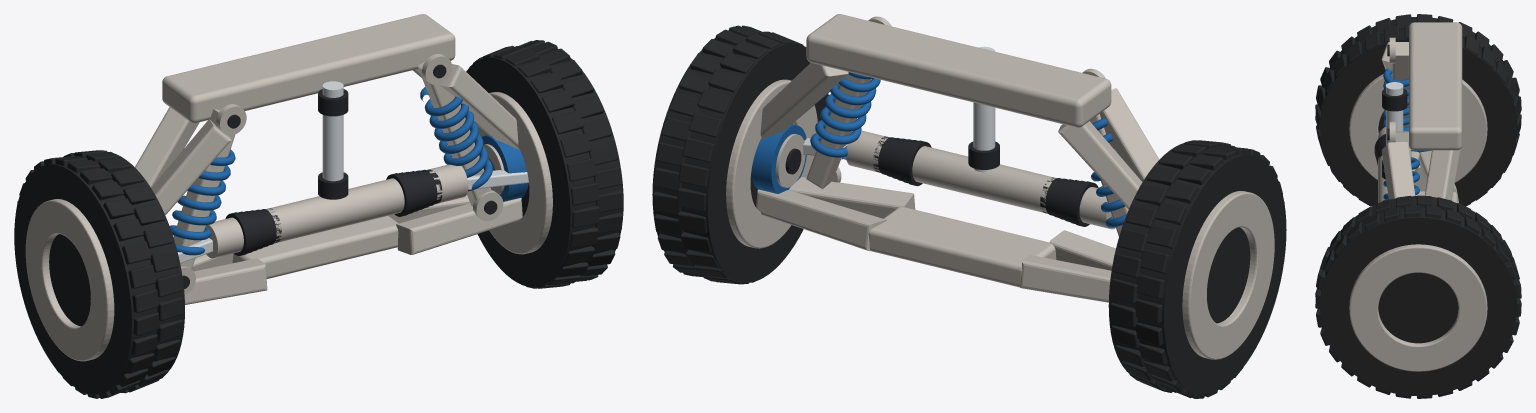
The model's file is anatomy-28.glb.
3 renders of one model, left to right at view 1: azimuth 30°, elevation 25°; view 2: azimuth 150°, elevation 25°; view 3: azimuth 270°, elevation 25°, orthographic. The views are drawn at different scales.
Parts seen in each view (by area): view 1: tires, bridge, hubs, rack, upper, shocks, lower, column, shock-mounts, ties; view 2: tires, bridge, hubs, lower, rack, upper, shocks, column; view 3: tires, hubs, bridge, upper, shocks, column, rack, shock-mounts, lower.
Part boxes in pixels (x1,y1,x2,y2): tires: (14,40,623,398); bridge: (162,14,455,278); hubs: (25,92,552,361); rack: (205,164,468,258); upper: (135,64,519,214); shocks: (169,61,492,269); lower: (184,194,522,304); column: (318,81,348,199); shock-mounts: (181,54,503,294); ties: (177,170,528,263); tires: (652,25,1286,398); bridge: (806,14,1111,287); hubs: (726,79,1274,359); lower: (756,177,1115,302); rack: (846,130,1115,229); upper: (760,63,1159,209); shocks: (806,72,1128,236); column: (968,46,999,172); tires: (1315,14,1521,398); hubs: (1349,74,1487,371); bridge: (1409,22,1462,203); upper: (1381,42,1460,200); shocks: (1383,42,1419,200); column: (1382,82,1407,179); rack: (1374,127,1387,202); shock-mounts: (1387,37,1395,142); lower: (1411,150,1458,202).
Size of the model in its own units: 2.6 by 1.32 by 1.1.
